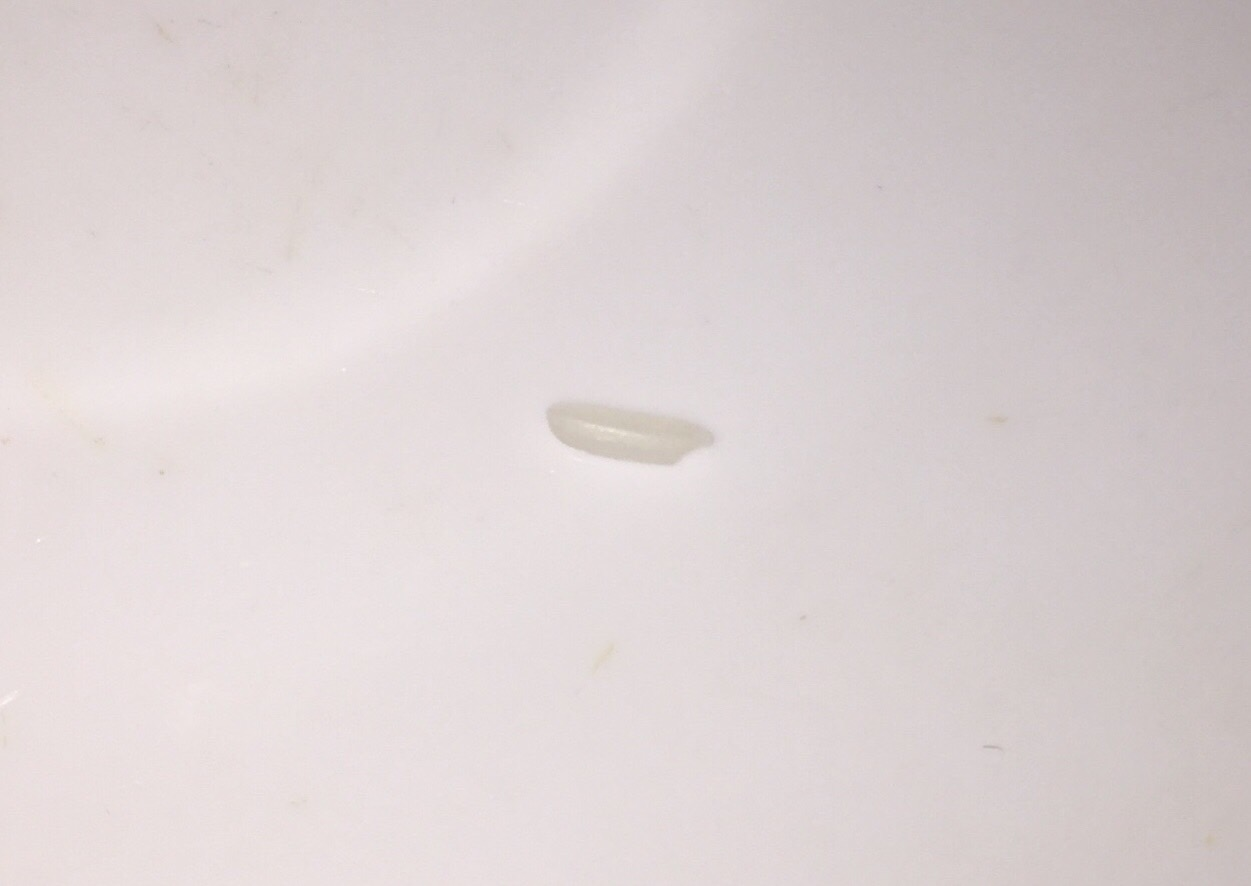Gao Ngoc Troi: (534, 383, 728, 486)
